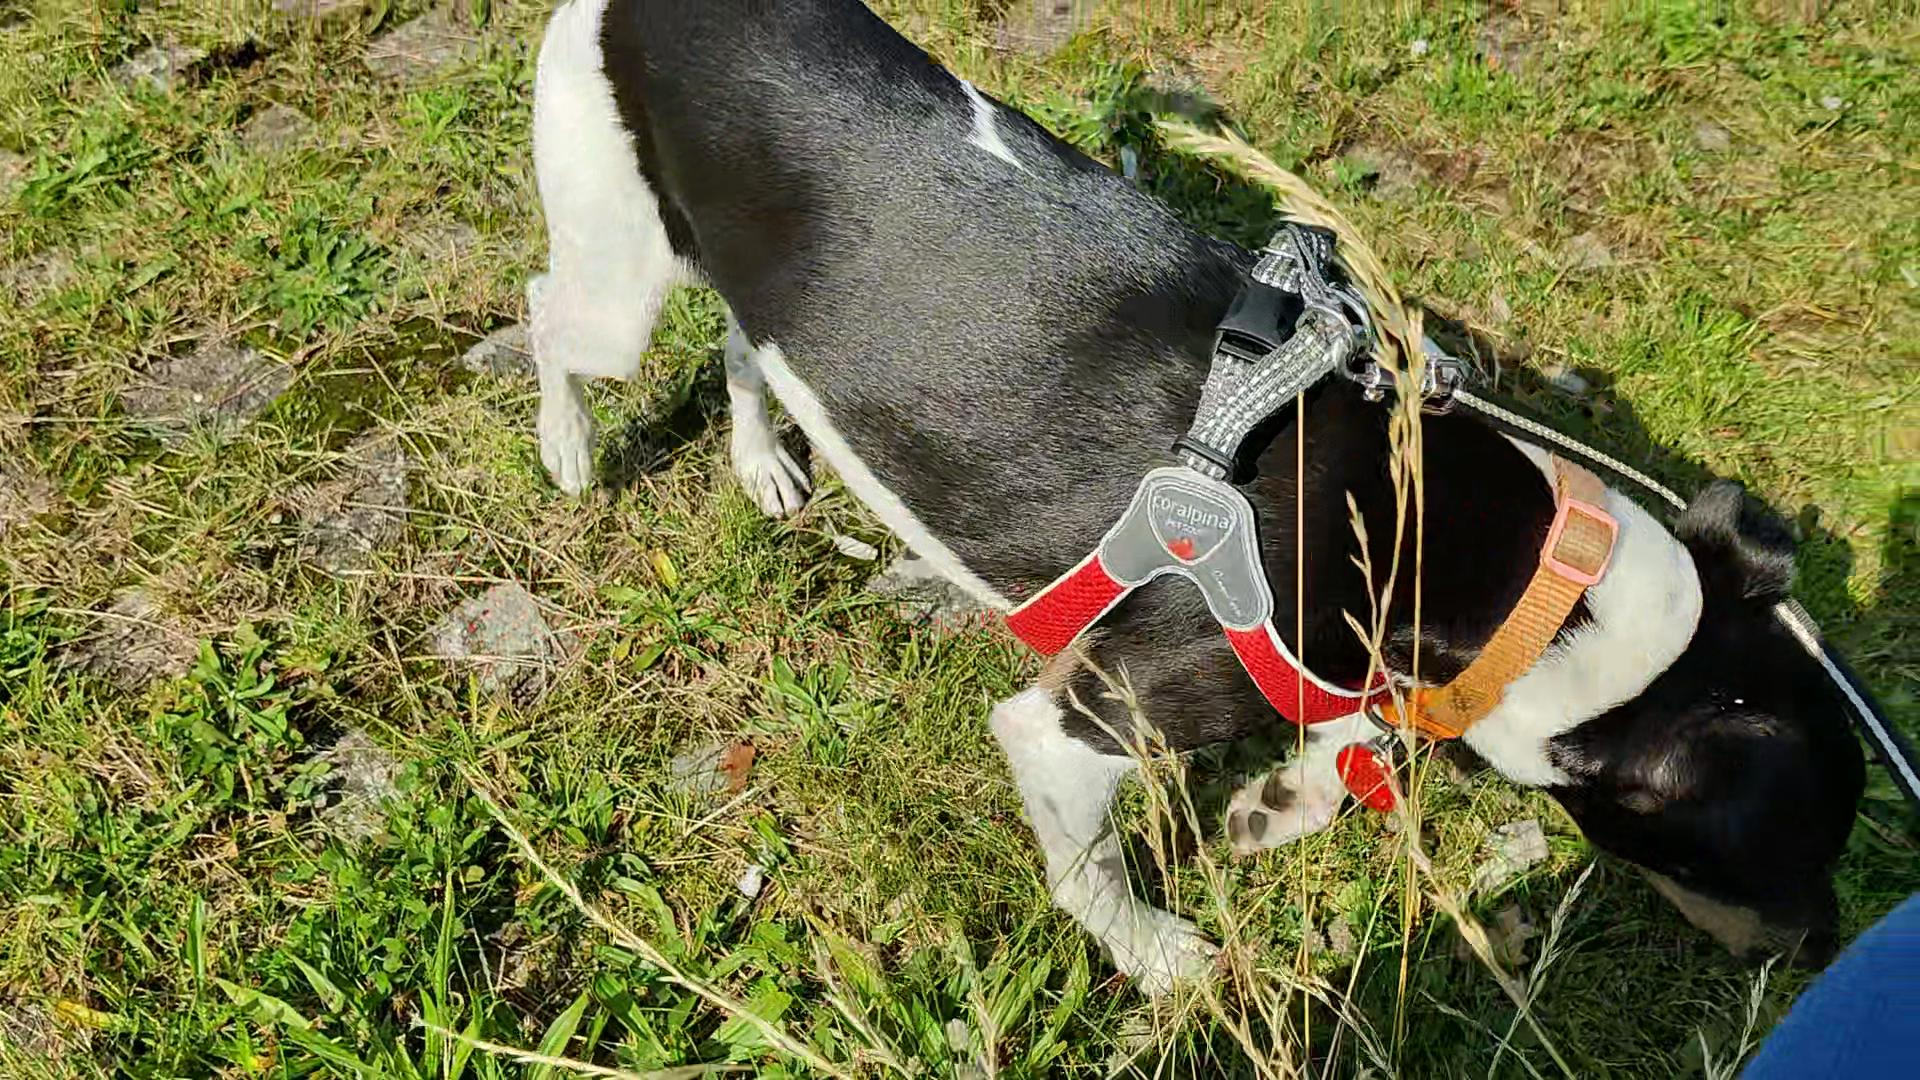Dog: (520, 0, 1867, 1011)
